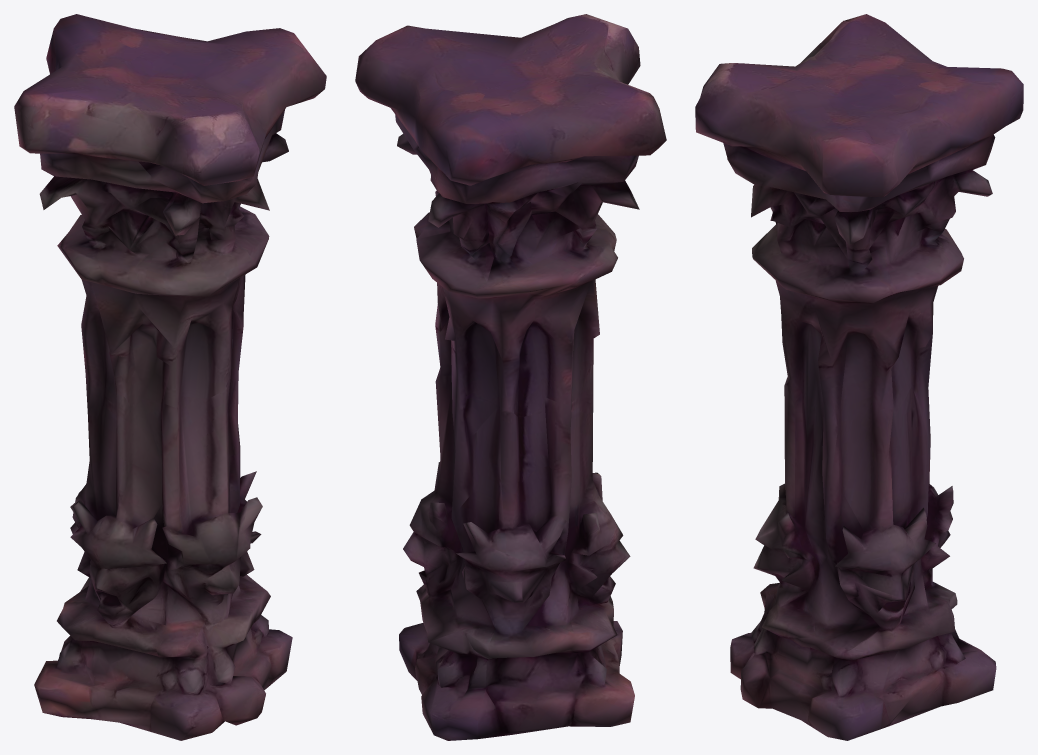
File: hall-column.glb
3 views of the same model, side by side, from view 1: azimuth 30°, elevation 25°; view 2: azimuth 150°, elevation 25°; view 3: azimuth 270°, elevation 25° (orthographic). The views are drawn at different scales.
Parts seen in each view (by area): view 1: tripo_node_cb074c8e-c7ab-4219-8ab4-1cc1dafceeb1; view 2: tripo_node_cb074c8e-c7ab-4219-8ab4-1cc1dafceeb1; view 3: tripo_node_cb074c8e-c7ab-4219-8ab4-1cc1dafceeb1.
Part boxes in pixels (x1=…): tripo_node_cb074c8e-c7ab-4219-8ab4-1cc1dafceeb1: x1=14, y1=14, x2=326, y2=740; tripo_node_cb074c8e-c7ab-4219-8ab4-1cc1dafceeb1: x1=355, y1=14, x2=666, y2=740; tripo_node_cb074c8e-c7ab-4219-8ab4-1cc1dafceeb1: x1=695, y1=14, x2=1023, y2=740.
Size of the model in its own units: 0.4821 by 0.9982 by 0.4858.
1 material, 1 textured.
